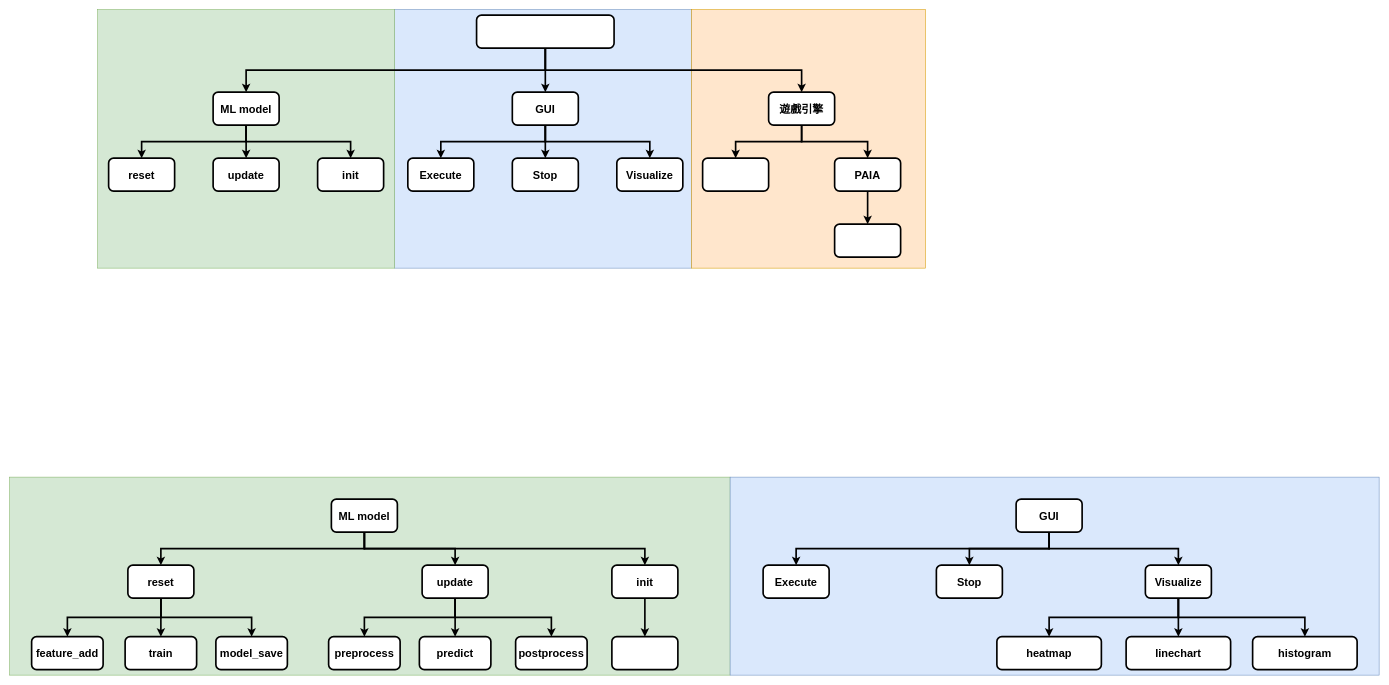
This 1389x685 diagram has some shape labels left out. Here are the shapes that lost their labels. From the top down, the centre of each, then its label:
At point 545,31: "乒乓球".
At point 735,174: "ML Game".
At point 867,240: "PingPong".
At point 644,653: "model_load".
